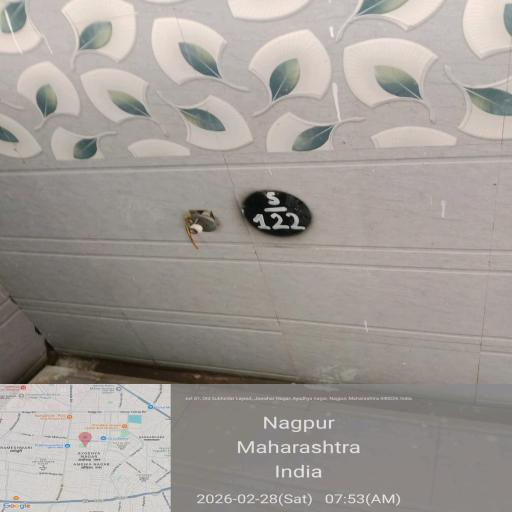clean_floor: (0, 0, 512, 339)
partial_dirty_floor: (6, 347, 383, 390)
